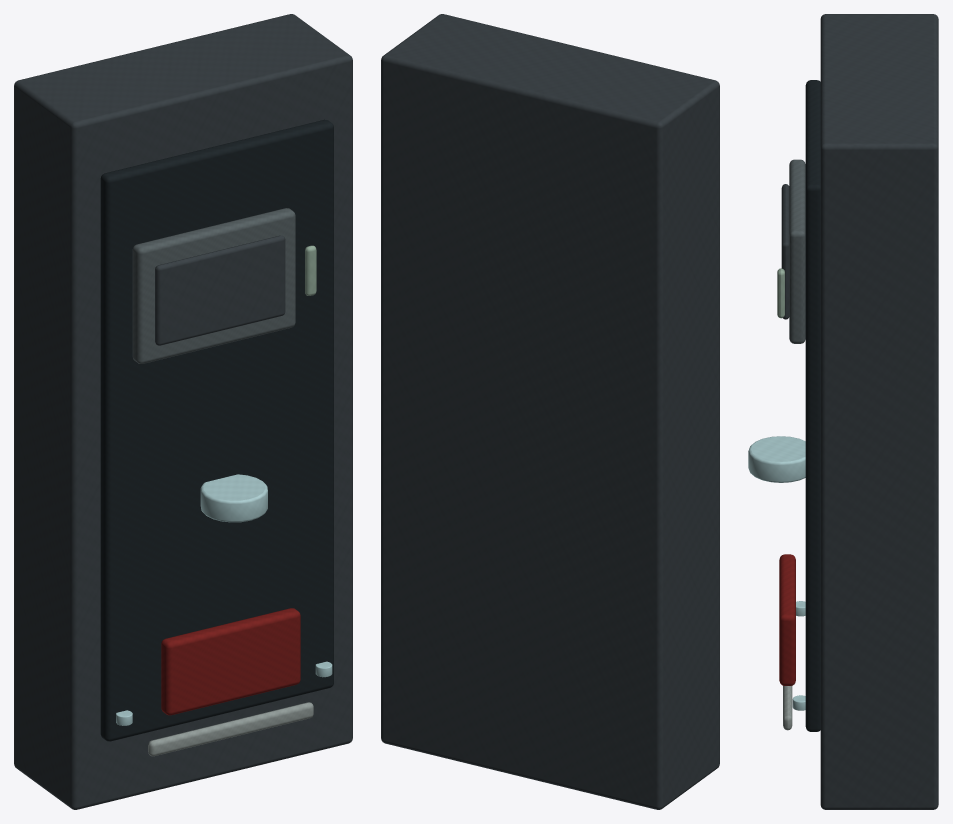
Rendered from AirlockControlPanel.fbx.
3 renders of one model, left to right at view 1: azimuth 30°, elevation 25°; view 2: azimuth 150°, elevation 25°; view 3: azimuth 270°, elevation 25°, orthographic. The views are drawn at different scales.
Parts seen in each view (by area): view 1: AirlockControlPanel_Mesh; view 2: AirlockControlPanel_Mesh; view 3: AirlockControlPanel_Mesh.
Boxes of the visible parts, x1,y1,x2,y2 form: AirlockControlPanel_Mesh: [14, 14, 352, 809]; AirlockControlPanel_Mesh: [381, 14, 719, 809]; AirlockControlPanel_Mesh: [748, 14, 938, 809].
Bounding box in the file's own units: 48 × 112 × 29.
7 materials, 7 textured.
